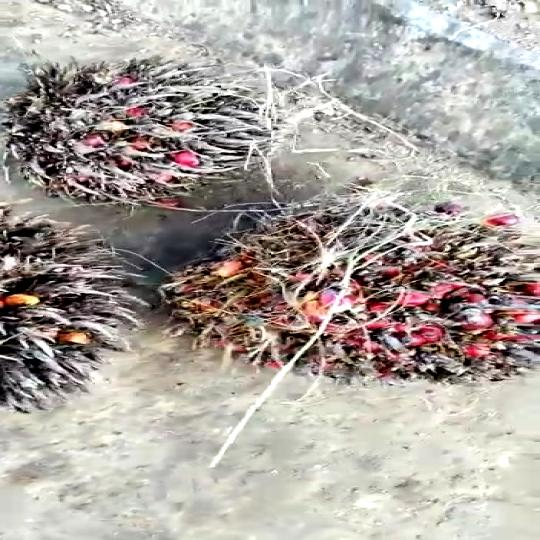terlalu masak: (153, 186, 540, 391), (0, 54, 299, 209)
